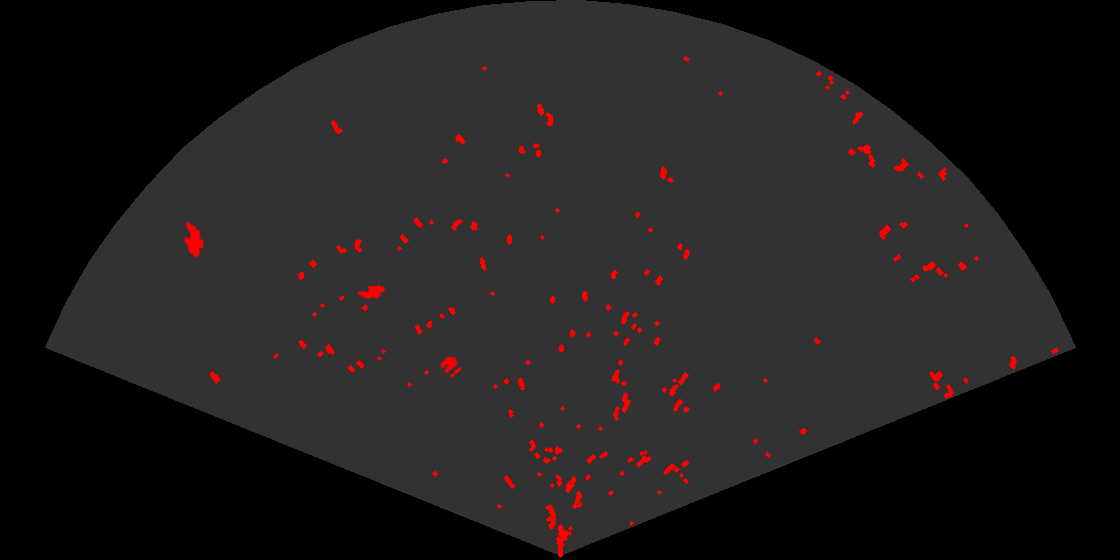AUV: (183, 220, 206, 260), (355, 283, 387, 299)
ball: (439, 355, 463, 379)
